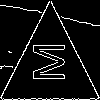M: (25, 42, 64, 83)
